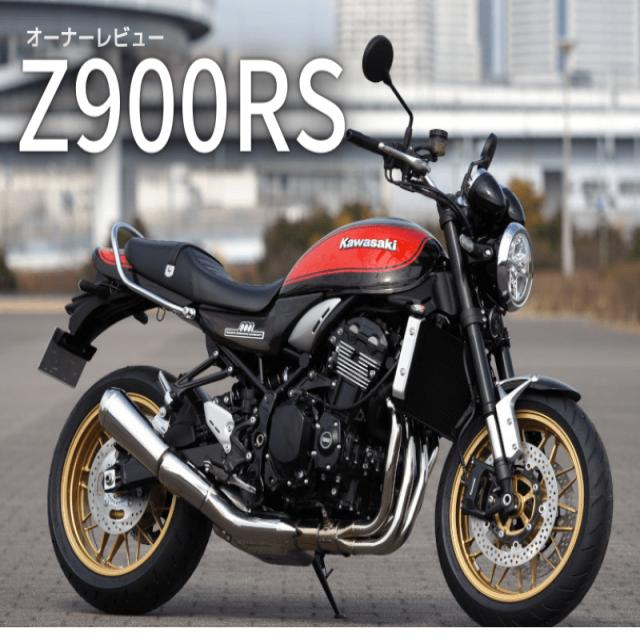Bike: (40, 37, 612, 625)
